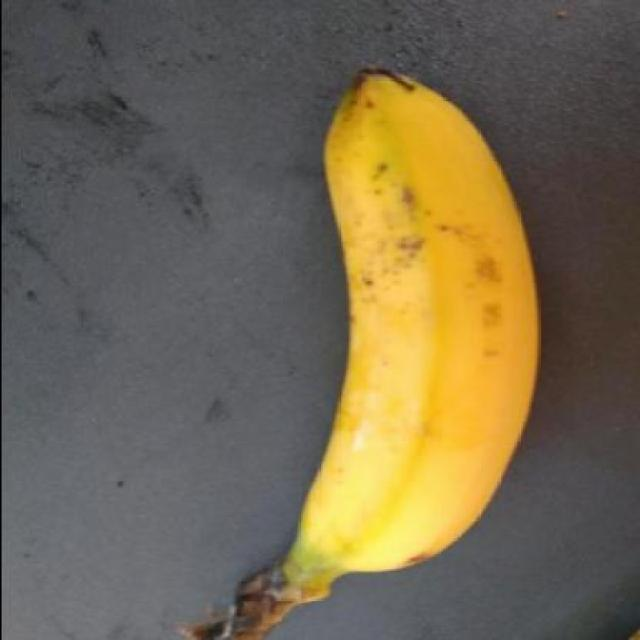Ripe: (143, 9, 565, 640)
